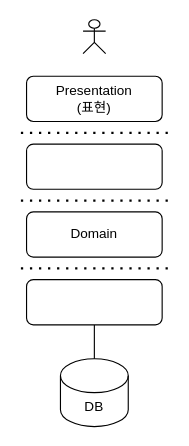
Image size: 189x446. Some labels were removed from this diagram. The shapes that lost their labels are listed below. From the top down, each one's centre as x and y in pixels, then its label:
the point at 93,166: Application (응용)
the point at 93,302: Infrastructure
